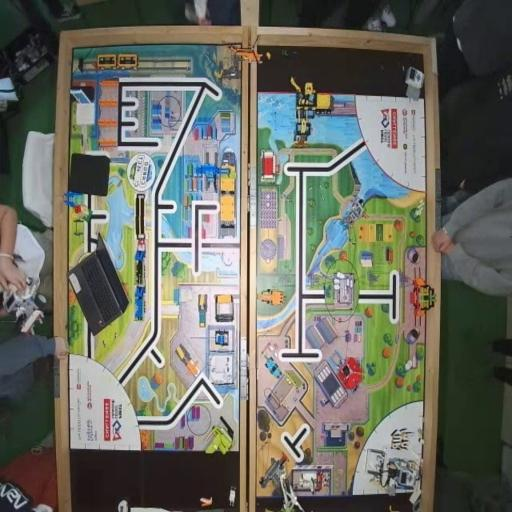lego_robot: (365, 448, 422, 497)
